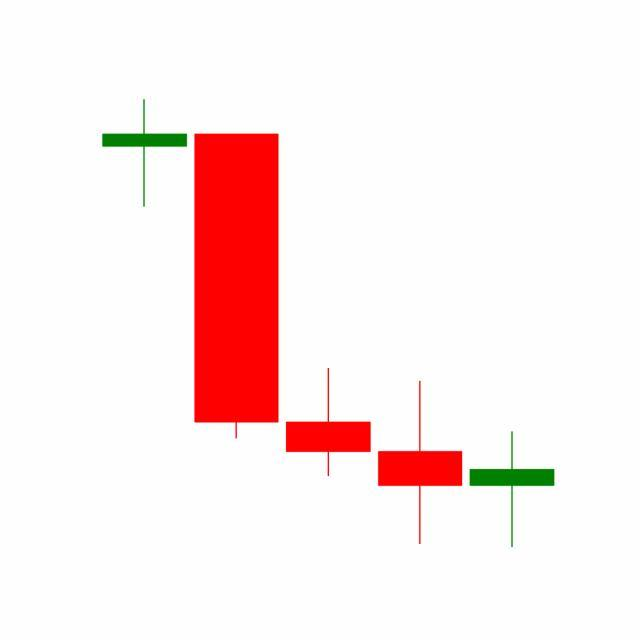Spinning Top: (374, 379, 468, 547)
